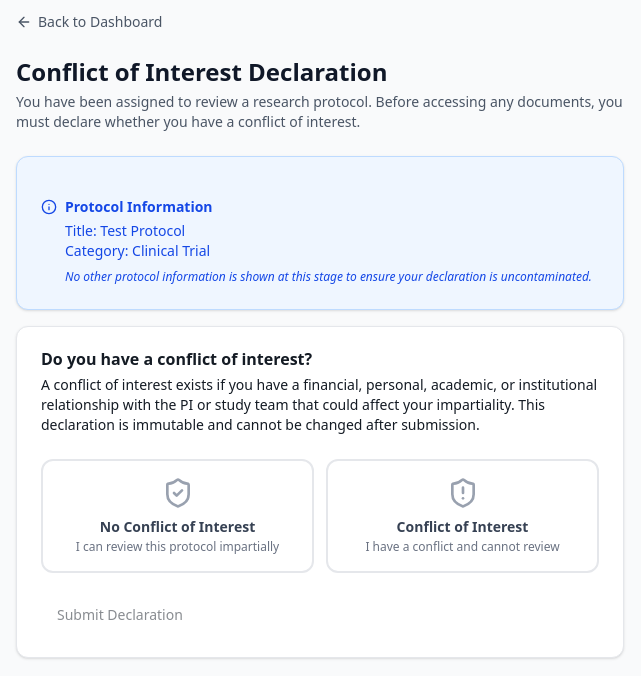
Test: COIDeclarationClient › hides details textarea when No Conflict selected
Click the button "No Conflict of Interest" at (178, 516), box [41,459,314,573]
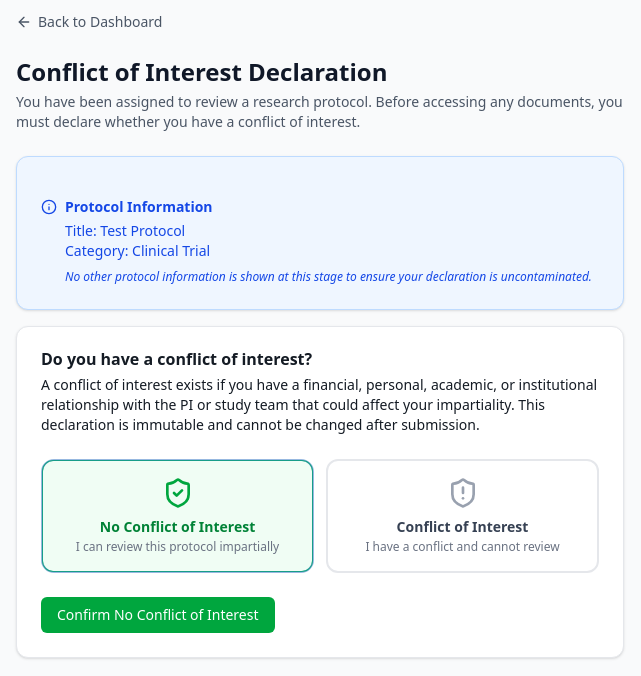
Expected: the button "Confirm No Conflict of Interest" is enabled, [41,597,274,633]
